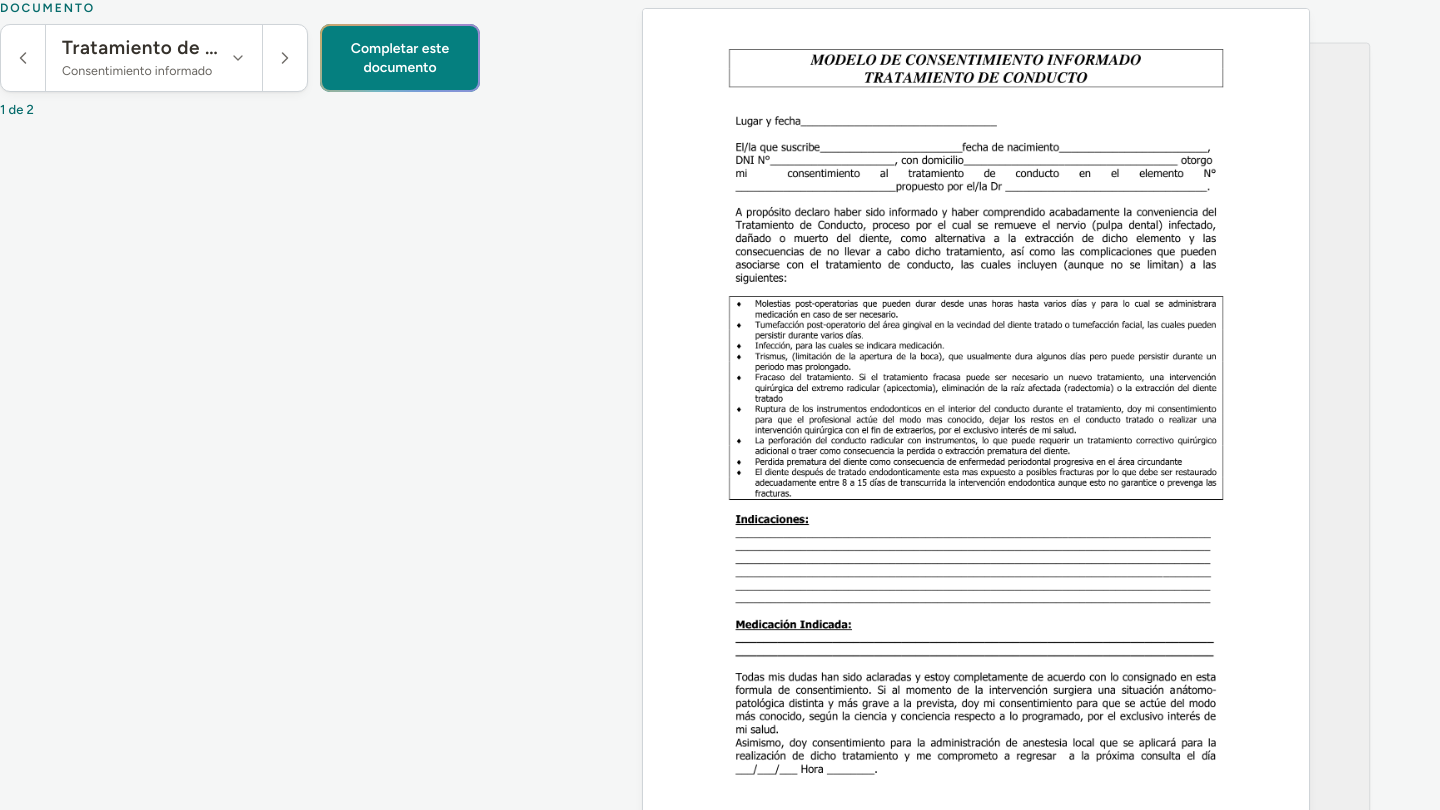
Test: ModuloDocumentos › una búsqueda sin resultados lo dice
Click the button "Completar este documento" at (400, 58), box [320,24,480,92]
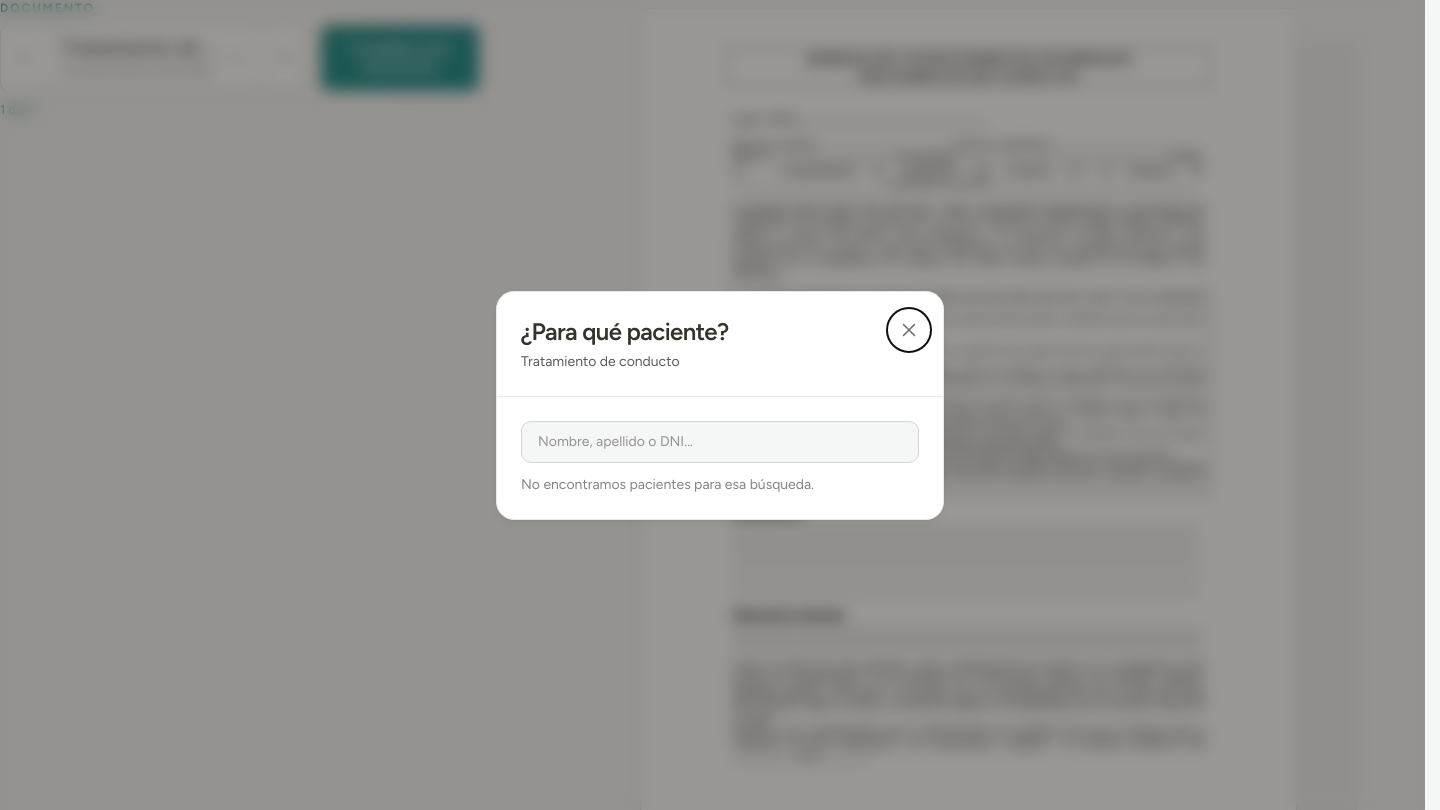
Expected: the text "No encontramos pacientes para esa búsqueda." is shown, [521,476,814,492]
